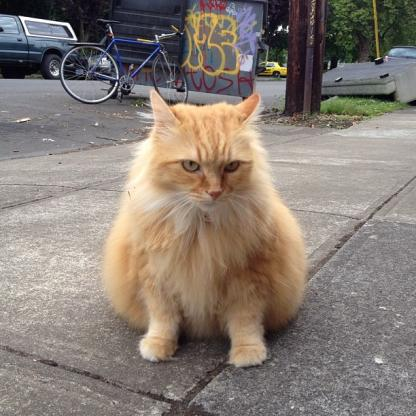Target: (99, 92, 313, 371)
